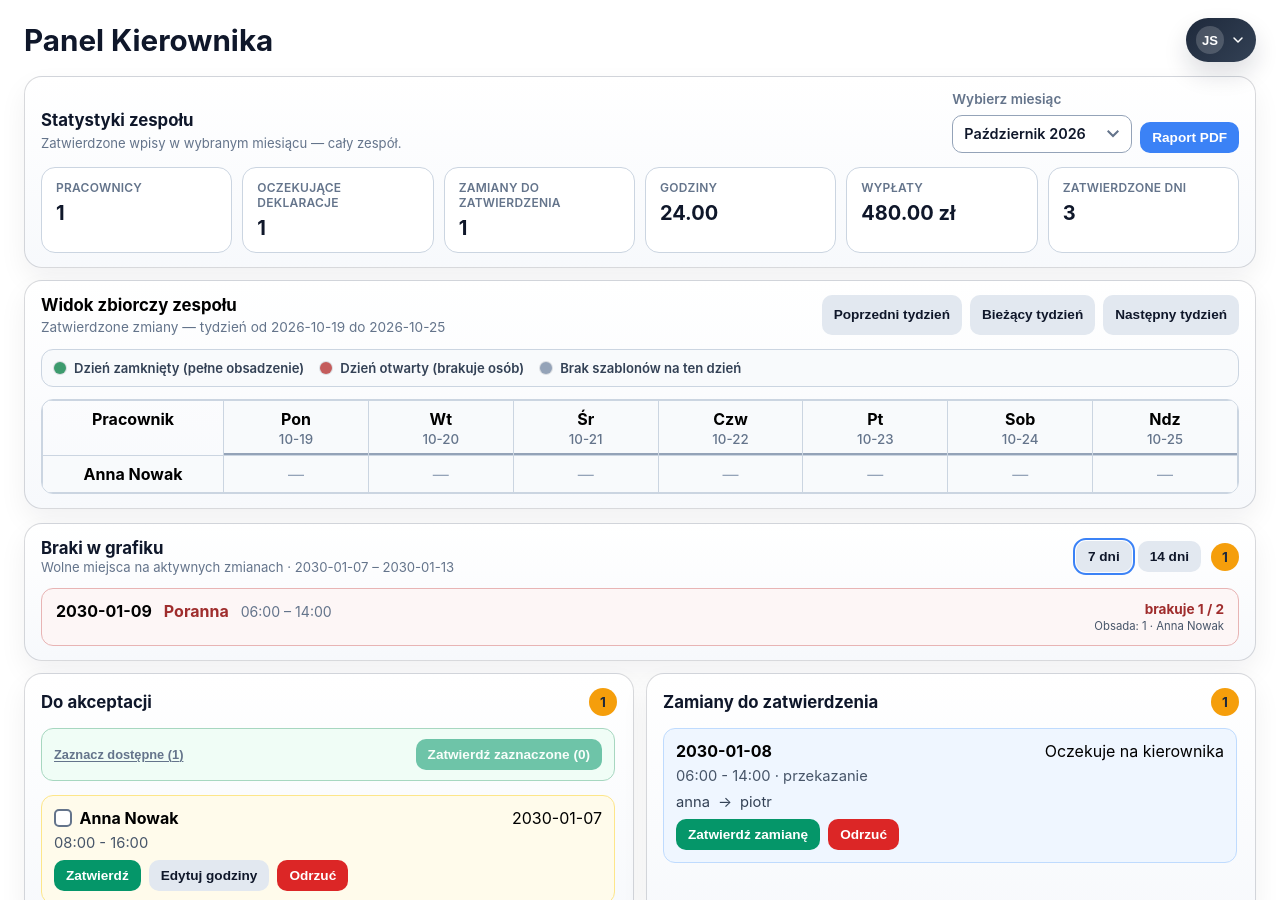
it: rejecting a swap with an own note
This screenshot has width=1280, height=900.
Expected: the text "Anna Nowak" is shown, [80, 808, 178, 828]
Click the button "Odrzuć" below "piotr" at [864, 834], box [828, 819, 899, 850]
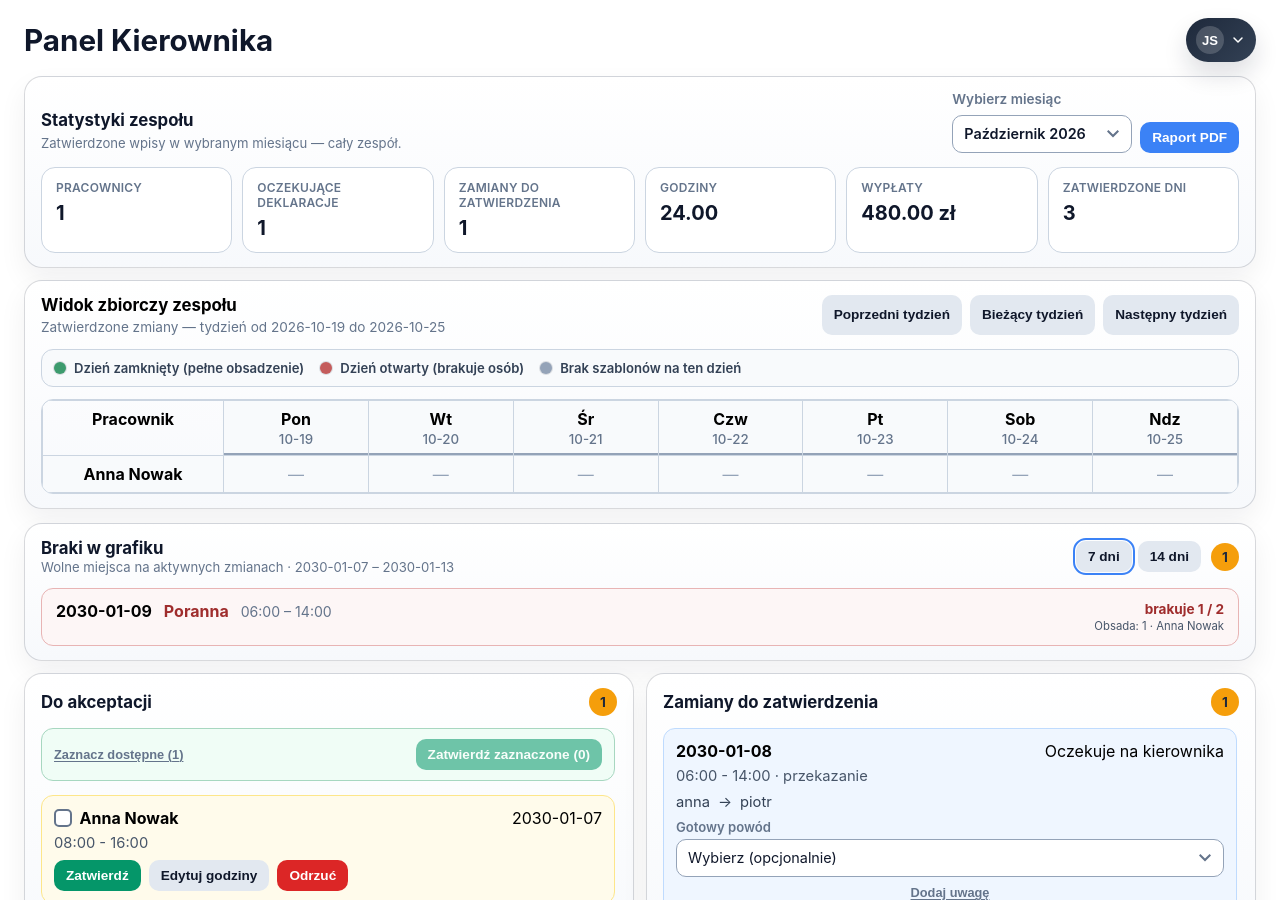
Click the button "Dodaj uwagę" at [950, 892], box [676, 885, 1224, 899]
(page scrolled)
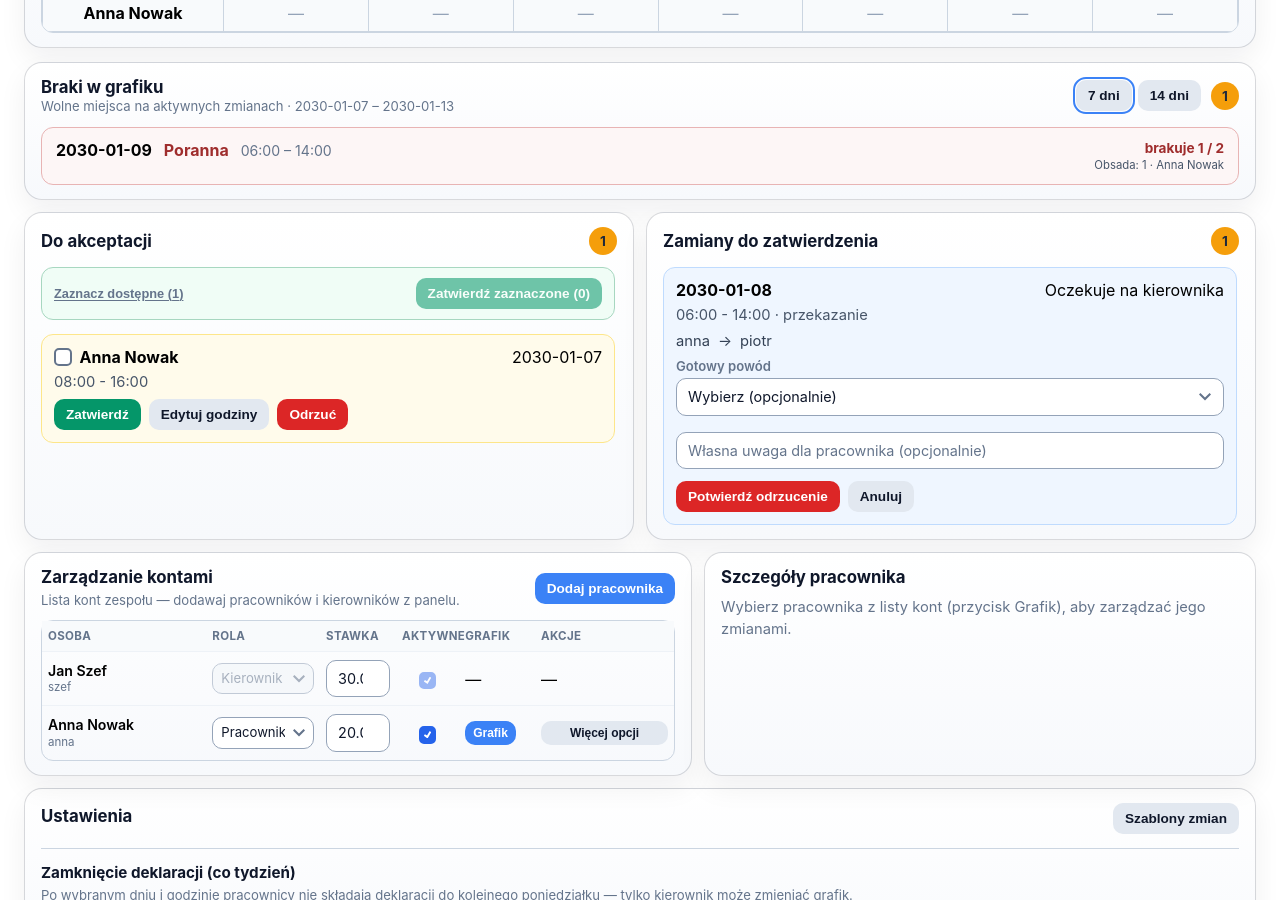
Type "  Brak zastępstwa  " into the field with placeholder "Własna uwaga dla pracownika (opcjonalnie)" at [950, 451], box [676, 432, 1224, 469]
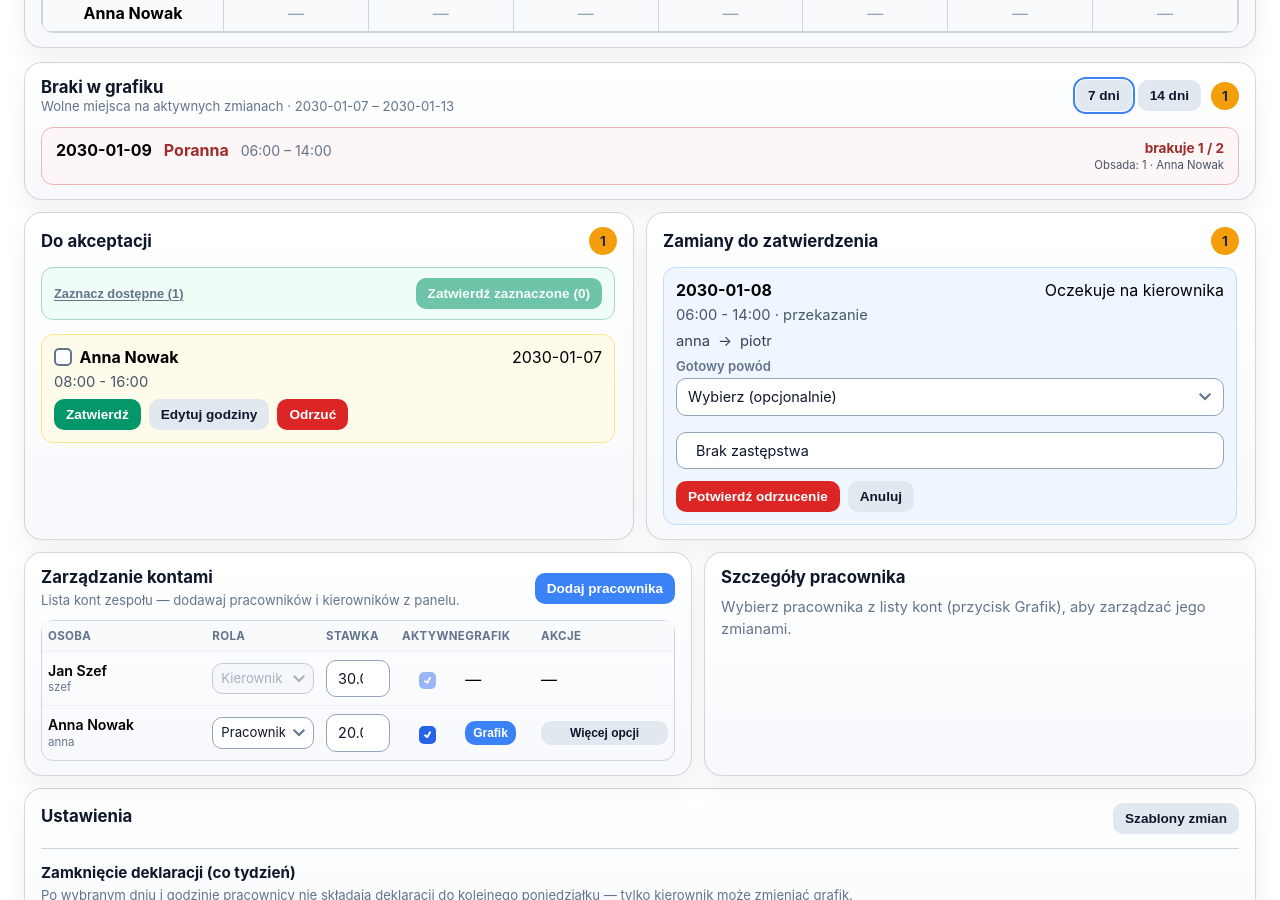
Click the button "Potwierdź odrzucenie" at [758, 497], box [676, 482, 840, 512]
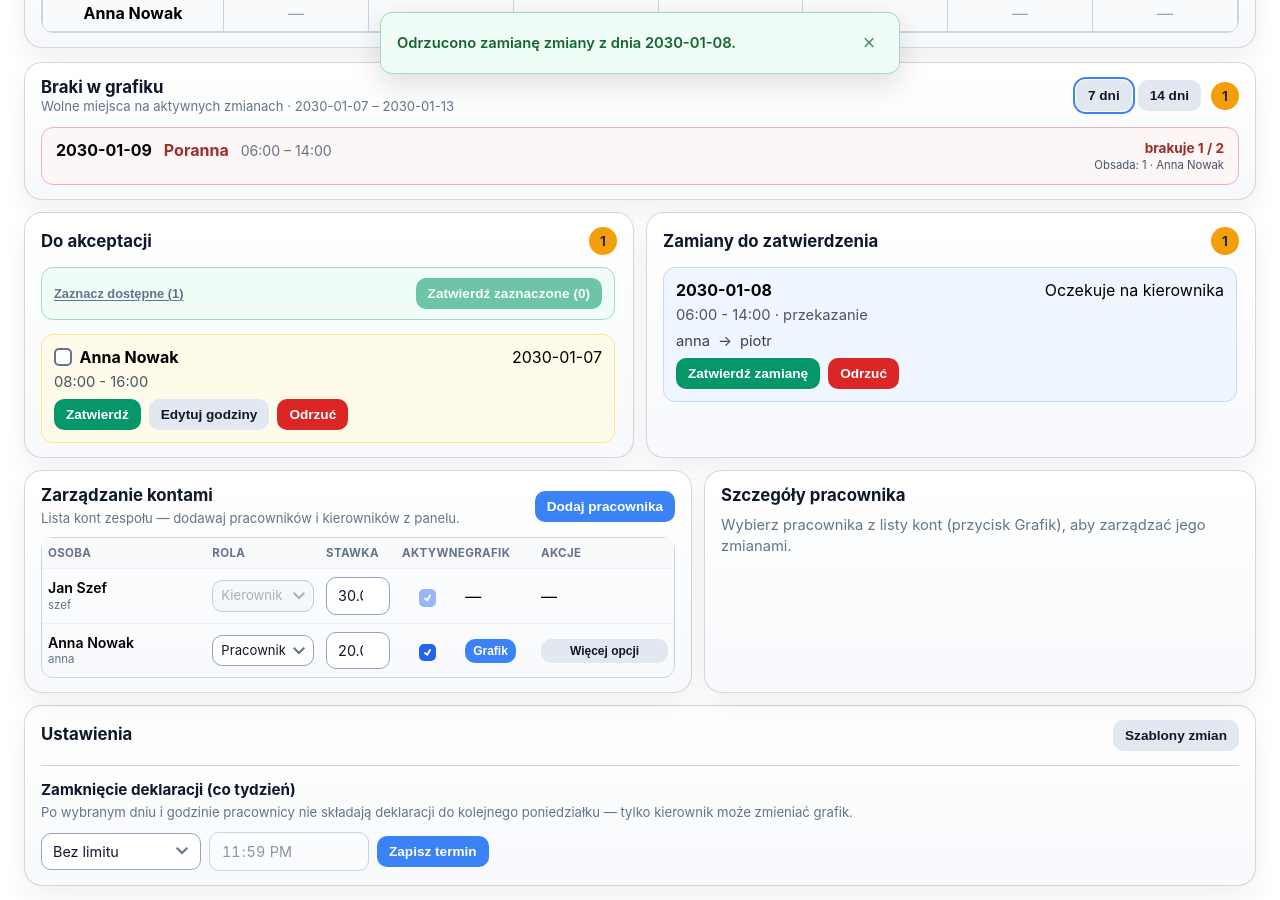
Expected: the text "Odrzucono zamianę zmiany z dnia 2030-01-08." is shown, [397, 34, 736, 52]
